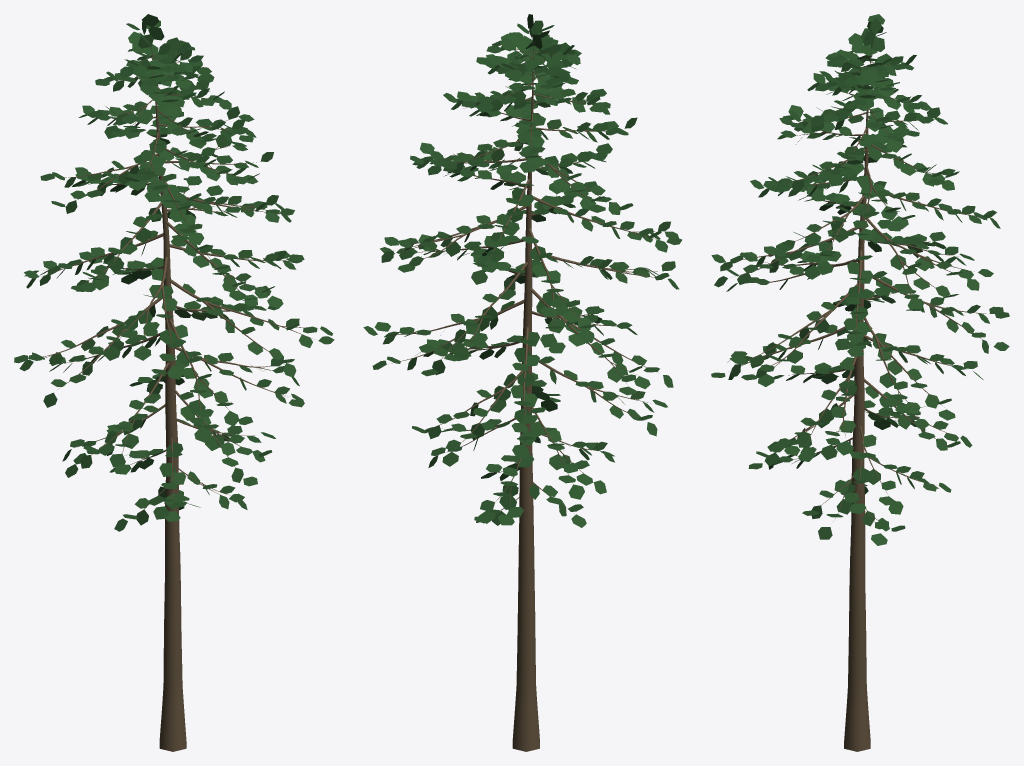
Rendered from Douglas_Fir_1.glb.
3 views of the same model, side by side, from view 1: azimuth 30°, elevation 25°; view 2: azimuth 150°, elevation 25°; view 3: azimuth 270°, elevation 25° (orthographic). The views are drawn at different scales.
Visible parts, largest first — view 1: leaves, tree; view 2: leaves, tree; view 3: leaves, tree.
Part boxes in pixels (<box>): leaves: <box>14,14,334,531</box>; tree: <box>41,37,312,751</box>; leaves: <box>363,14,682,527</box>; tree: <box>391,34,660,751</box>; leaves: <box>711,14,1009,545</box>; tree: <box>731,40,990,751</box>.
Size of the model in its own units: 18.11 by 47.83 by 17.99.
